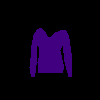maglione: (29, 28, 72, 77)
